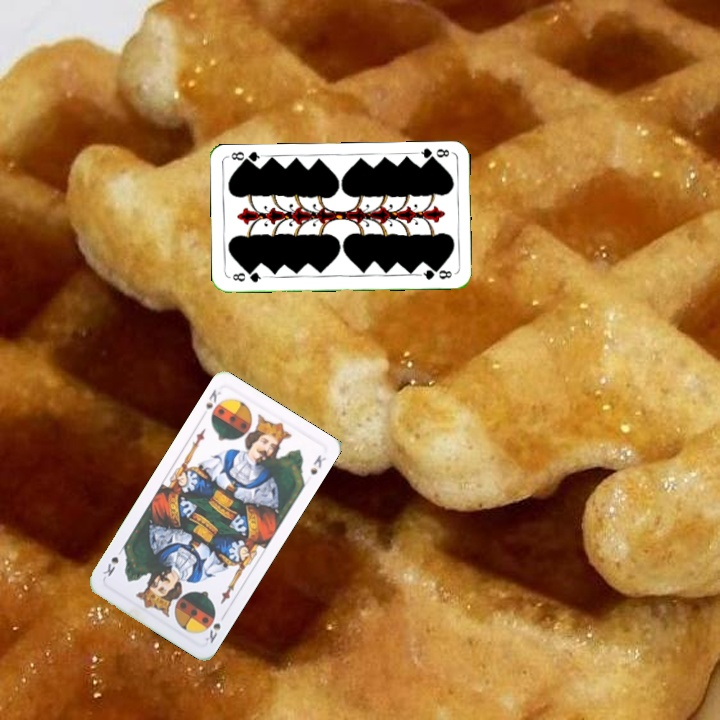G8: (413, 144, 454, 164), (228, 268, 267, 284)
SK: (201, 609, 229, 646), (201, 385, 224, 413)
